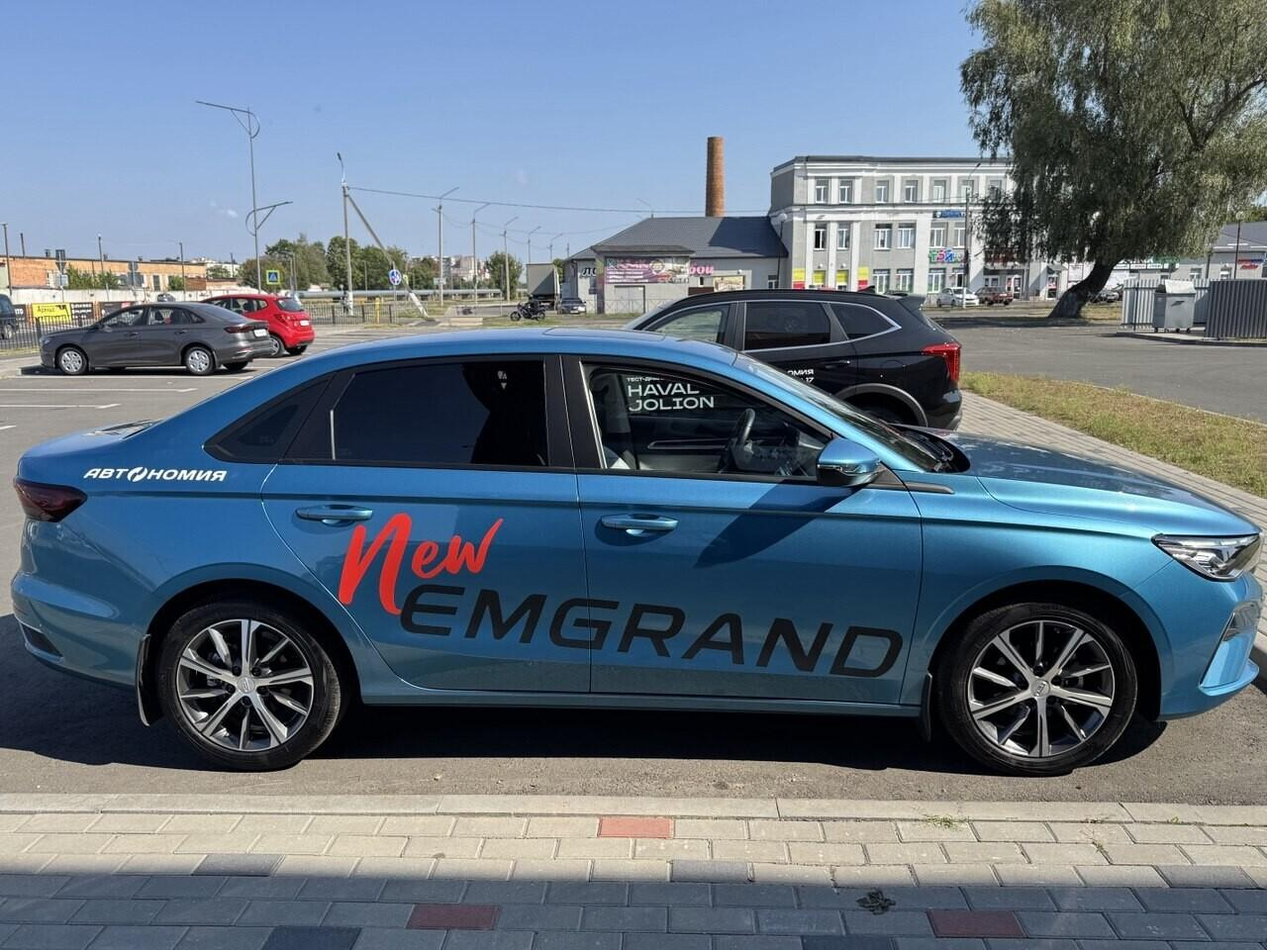Emgrand_2021: (10, 319, 1260, 787)
